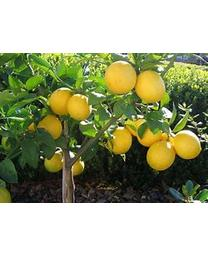lemon: (106, 62, 138, 95), (136, 72, 166, 103), (174, 131, 202, 160), (147, 142, 176, 170), (68, 94, 93, 122), (105, 128, 133, 153), (50, 88, 73, 118), (38, 116, 63, 140), (44, 151, 62, 172)
